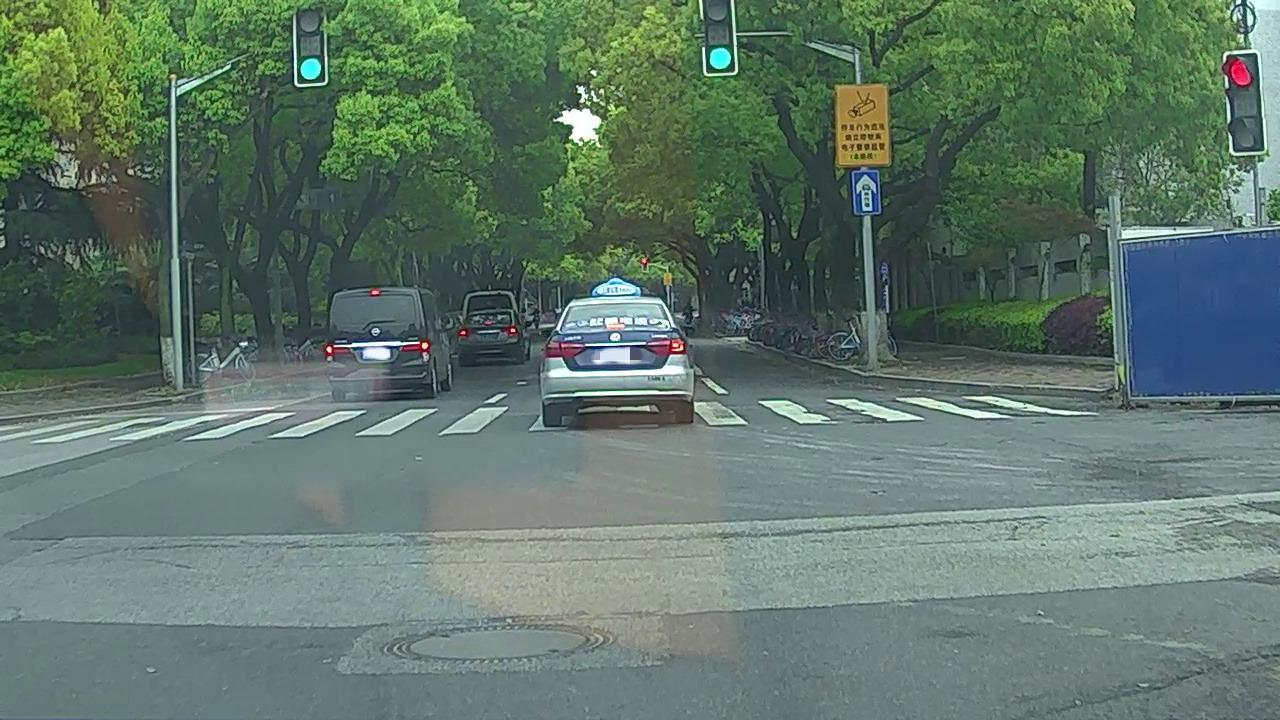traffic_light: (294, 5, 327, 87), (701, 1, 737, 70)
